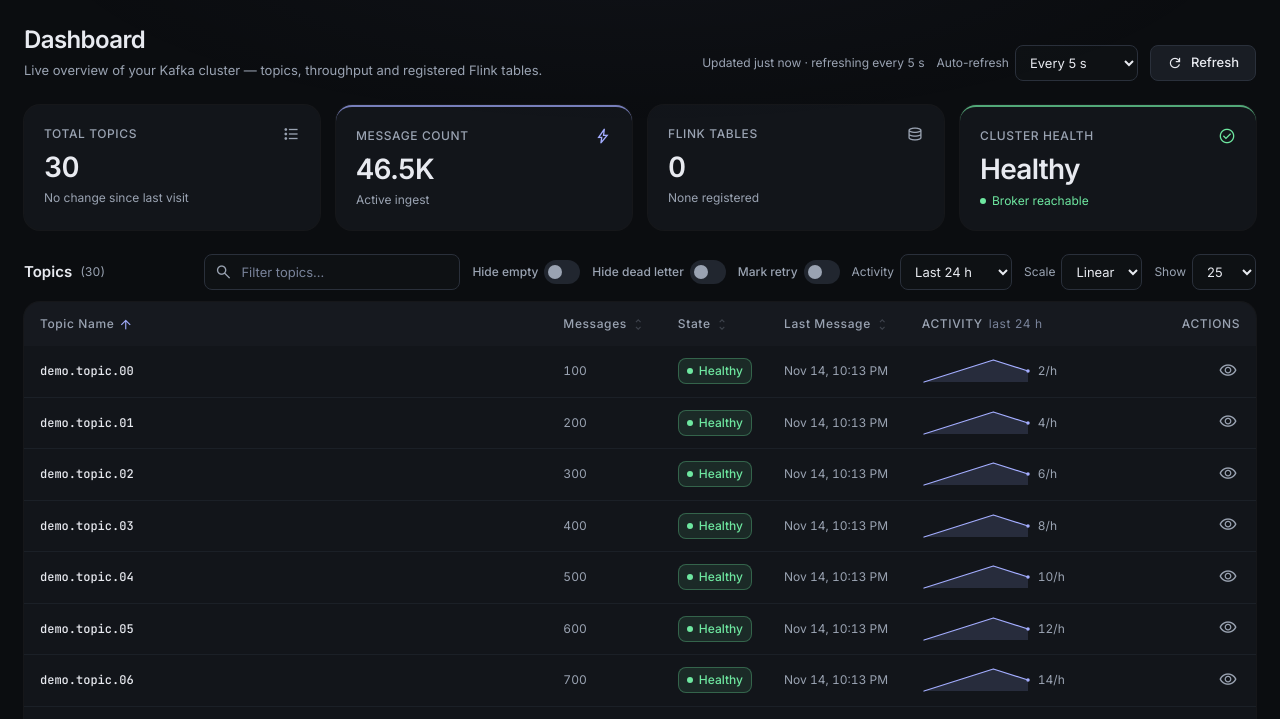
Test: Dashboard auto-refresh › off stops the polling — both the table and the activity column
Select "Off" in the dropdown labelled "Auto-refresh" at (1076, 63), box x1=1015 y1=45 x2=1138 y2=81
Wait 600000 ms
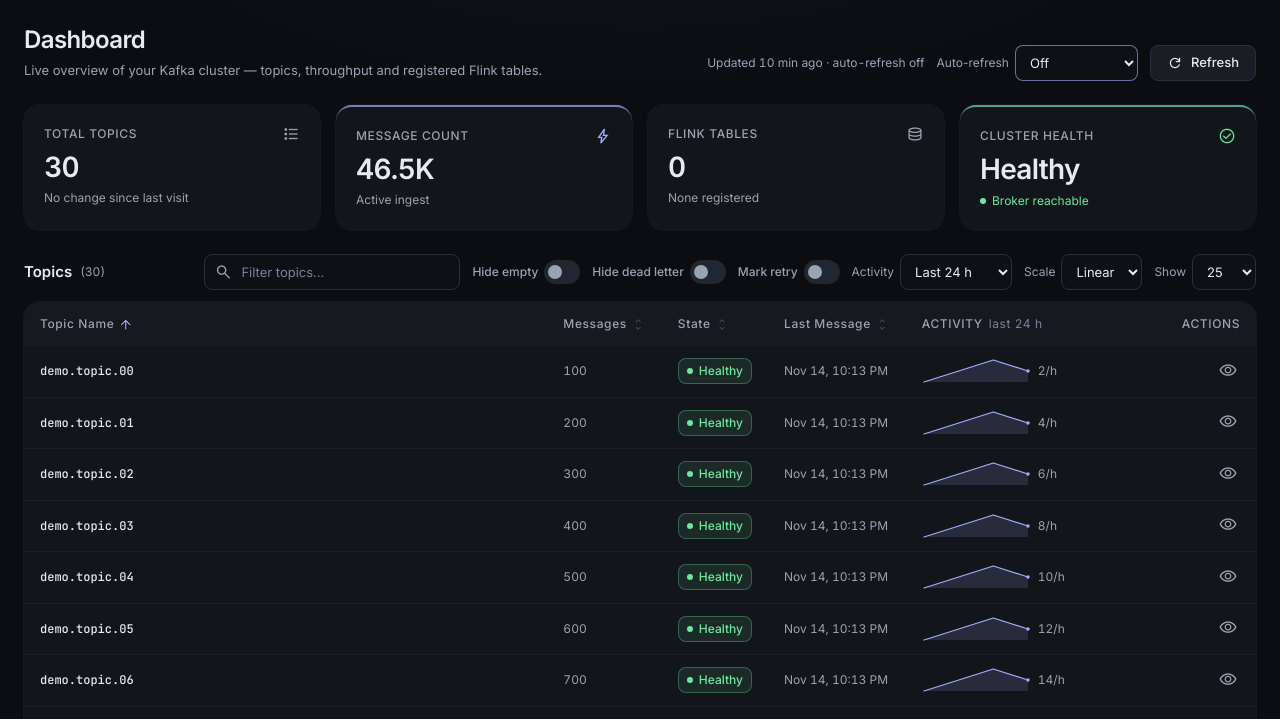
Result: the text "Updated 10 min ago · auto-refresh off" is shown at x1=707 y1=54 x2=924 y2=72
